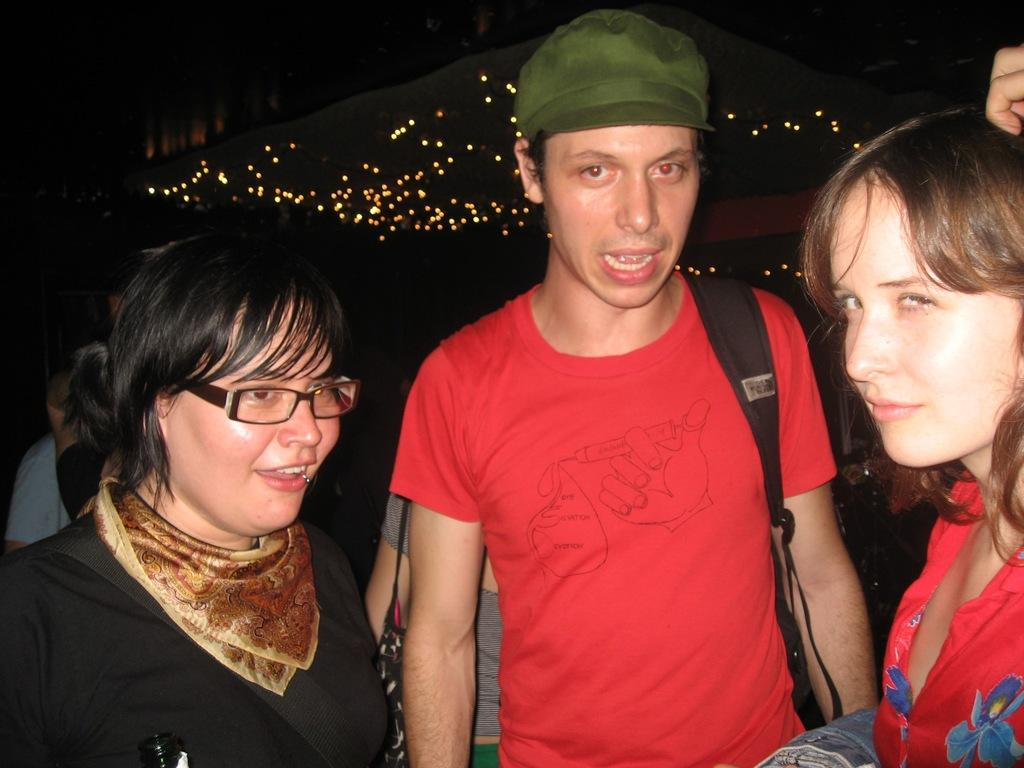Hat: (520, 8, 712, 124)
